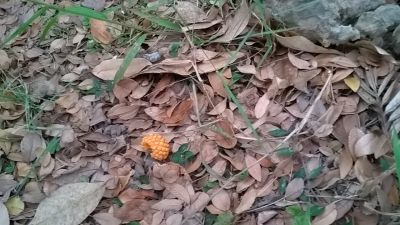eggs: (140, 132, 171, 161)
